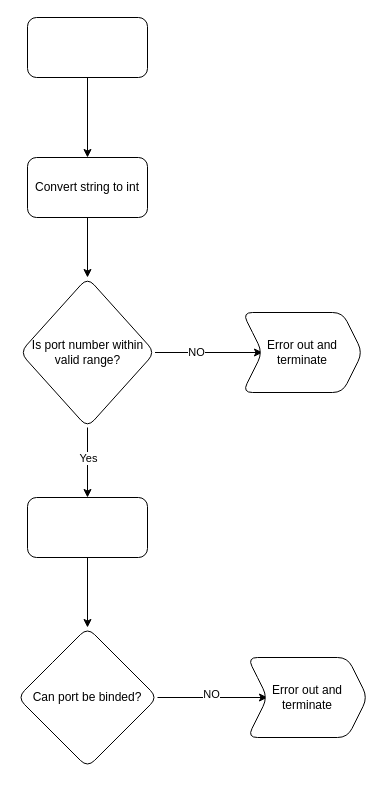
The diagram is 385 pixels wide and 785 high, and some of its shapes have lost their labels. Each missing label, with the centre of its shape:
"Init" belongs at [87,47].
"Save port number and attempt to bind socket to port" belongs at [87,527].
